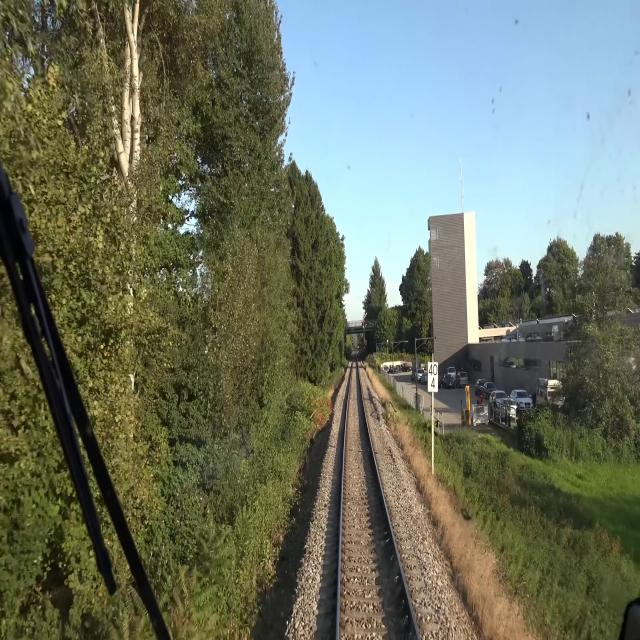rail-track: (340, 359, 415, 639)
